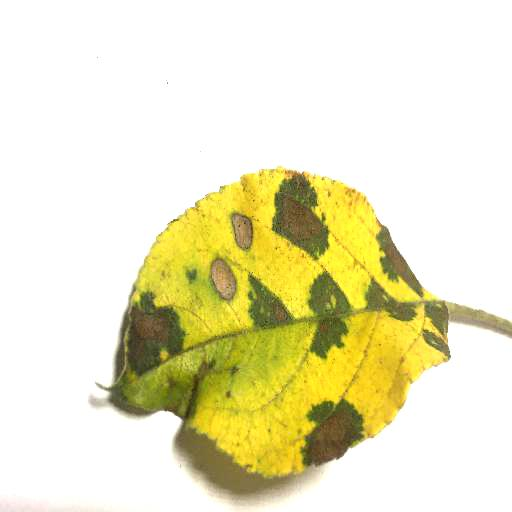Brown_Spot: (279, 194, 322, 238), (312, 411, 348, 461), (131, 309, 169, 346), (213, 257, 231, 299), (233, 212, 251, 247), (388, 245, 404, 274), (273, 303, 288, 321), (318, 323, 331, 332)
